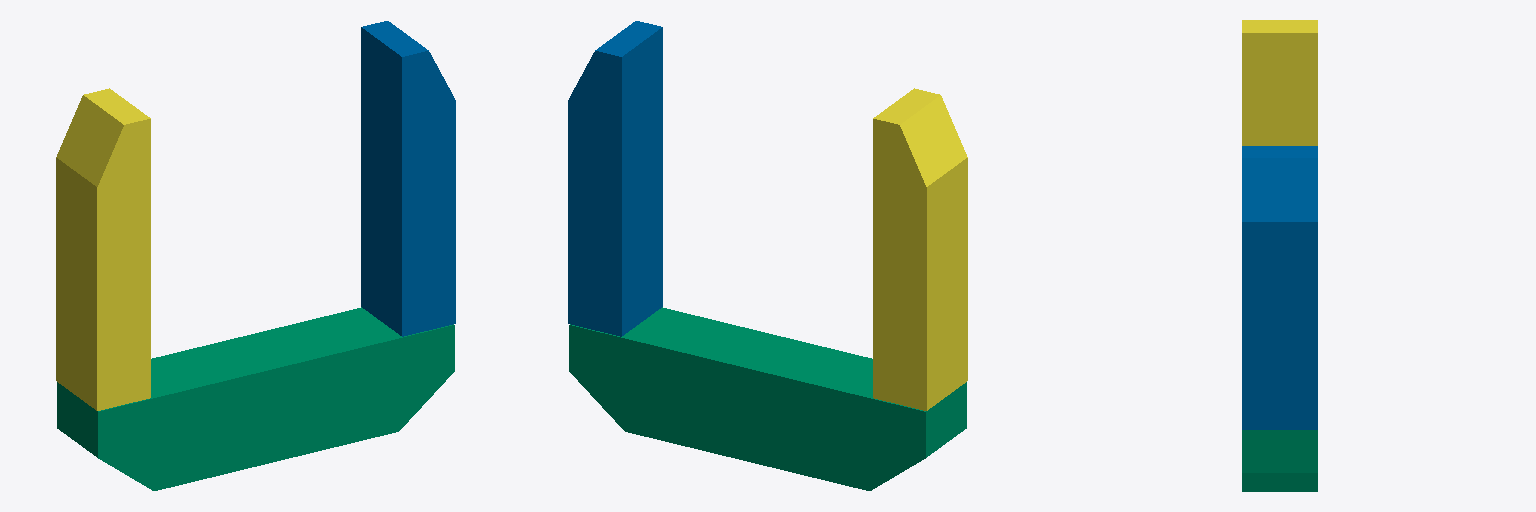
The robot description file, URDF, robot "iiwa14_gripper::iiwa14":
<?xml version="1.0"?>
<!-- =================================================================================== -->
<!-- |    This document was autogenerated by xacro from iiwa14.urdf.xacro              | -->
<!-- |    EDITING THIS FILE BY HAND IS NOT RECOMMENDED                                 | -->
<!-- =================================================================================== -->
<!-- MODIFIED by [author] to modify joint Transmissions to type Effort-->
<robot xmlns:xacro="http://www.ros.org/wiki/xacro" name="iiwa14_gripper::iiwa14">

  <material name="Black">
    <color rgba="0.0 0.0 0.0 1.0"/>
  </material>
  <material name="Blue">
    <color rgba="0.0 0.0 0.8 1.0"/>
  </material>
  <material name="Green">
    <color rgba="0.0 0.8 0.0 1.0"/>
  </material>
  <material name="Grey">
    <color rgba="0.4 0.4 0.4 1.0"/>
  </material>
  <material name="Orange">
    <color rgba="1.0 0.423529411765 0.0392156862745 1.0"/>
  </material>
  <material name="Brown">
    <color rgba="0.870588235294 0.811764705882 0.764705882353 1.0"/>
  </material>
  <material name="Red">
    <color rgba="0.8 0.0 0.0 1.0"/>
  </material>
  <material name="White">
    <color rgba="1.0 1.0 1.0 1.0"/>
  </material>
  <!-- Fix to world just for testing -->
  <link name="world"/>
  <!--joint between {parent} and link_0-->
  <joint name="world_iiwa_joint" type="fixed">
    <origin rpy="0 0 0" xyz="0.18 -0.33 0.79"/>
    <!-- original diploma <origin rpy="0 0 0" xyz="0.18 -0.33 0.79"/> -->
    <!-- <origin rpy="0 3.1415 0" xyz="-0.5 -0.3 1.7"/> -->
    <parent link="world"/>
    <child link="iiwa_link_0"/>
  </joint>
  <link name="iiwa_link_0">
    <inertial>
      <origin rpy="0 0 0" xyz="-0.1 0 0.07"/>
      <mass value="5"/>
      <inertia ixx="0.05" ixy="0" ixz="0" iyy="0.06" iyz="0" izz="0.03"/>
    </inertial>
    <visual>
      <origin rpy="0 0 0" xyz="0 0 0"/>
      <geometry>
        <mesh filename="package://kuka_iiwa_description/meshes/visual/link_0.stl"/>
      </geometry>
      <material name="Grey"/>
    </visual>
    <collision>
      <origin rpy="0 0 0" xyz="0 0 0"/>
      <geometry>
        <mesh filename="package://kuka_iiwa_description/meshes/collision/link_0.stl"/>
      </geometry>
      <material name="Grey"/>
    </collision>
    <self_collision_checking>
      <origin rpy="0 0 0" xyz="0 0 0"/>
      <geometry>
        <capsule length="0.25" radius="0.15"/>
      </geometry>
    </self_collision_checking>
  </link>
  <!-- joint between link_0 and link_1 -->
  <joint name="iiwa_joint_1" type="revolute">
    <parent link="iiwa_link_0"/>
    <child link="iiwa_link_1"/>
    <origin rpy="0 0 0" xyz="0 0 0.1575"/>
    <axis xyz="0 0 1"/>
    <limit effort="3000" lower="-314" upper="314" velocity="100"/>
    <!-- <limit effort="300" lower="-2.96705972839" upper="2.96705972839" velocity="10"/> -->
    <!-- <safety_controller k_position="100" k_velocity="2" soft_lower_limit="-2.93215314335" soft_upper_limit="2.93215314335"/> -->
    <dynamics damping="0.013"/>
  </joint>
  <link name="iiwa_link_1">
    <inertial>
      <origin rpy="0 0 0" xyz="0 -0.03 0.12"/>
      <mass value="4"/>
      <inertia ixx="0.1" ixy="0" ixz="0" iyy="0.09" iyz="0" izz="0.02"/>
    </inertial>
    <visual>
      <origin rpy="0 0 0" xyz="0 0 0"/>
      <geometry>
        <mesh filename="package://kuka_iiwa_description/meshes/visual/link_1.stl"/>
      </geometry>
      <material name="Orange"/>
    </visual>
    <collision>
      <origin rpy="0 0 0" xyz="0 0 0"/>
      <geometry>
        <mesh filename="package://kuka_iiwa_description/meshes/collision/link_1.stl"/>
      </geometry>
      <material name="Orange"/>
    </collision>
  </link>
  <!-- joint between link_1 and link_2 -->
  <joint name="iiwa_joint_2" type="revolute">
    <parent link="iiwa_link_1"/>
    <child link="iiwa_link_2"/>
    <origin rpy="1.57079632679   0 3.14159265359" xyz="0 0 0.2025"/>
    <axis xyz="0 0 1"/>
    <limit effort="3000" lower="-314" upper="314" velocity="100"/>
    <!-- <limit effort="300" lower="-2.09439510239" upper="2.09439510239" velocity="10"/>
    <safety_controller k_position="100" k_velocity="2" soft_lower_limit="-2.05948851735" soft_upper_limit="2.05948851735"/> -->
    <dynamics damping="0.013"/>
  </joint>
  <link name="iiwa_link_2">
    <inertial>
      <origin rpy="0 0 0" xyz="0.0003 0.059 0.042"/>
      <mass value="0.4"/>
      <inertia ixx="0.005" ixy="0" ixz="0" iyy="0.0018" iyz="0" izz="0.0044"/>
    </inertial>
    <visual>
      <origin rpy="0 0 0" xyz="0 0 0"/>
      <geometry>
        <mesh filename="package://kuka_iiwa_description/meshes/visual/link_2.stl"/>
      </geometry>
      <material name="Orange"/>
    </visual>
    <collision>
      <origin rpy="0 0 0" xyz="0 0 0"/>
      <geometry>
        <mesh filename="package://kuka_iiwa_description/meshes/collision/link_2.stl"/>
      </geometry>
      <material name="Orange"/>
    </collision>
  </link>
  <!-- joint between link_2 and link_3 -->
  <joint name="iiwa_joint_3" type="revolute">
    <parent link="iiwa_link_2"/>
    <child link="iiwa_link_3"/>
    <origin rpy="1.57079632679 0 3.14159265359" xyz="0 0.2045 0"/>
    <axis xyz="0 0 1"/>
    <limit effort="3000" lower="-314" upper="314" velocity="100"/>
    <!-- <limit effort="300" lower="-2.96705972839" upper="2.96705972839" velocity="10"/>
    <safety_controller k_position="100" k_velocity="2" soft_lower_limit="-2.93215314335" soft_upper_limit="2.93215314335"/> -->
    <dynamics damping="0.013"/>
  </joint>
  <link name="iiwa_link_3">
    <inertial>
      <origin rpy="0 0 0" xyz="0 0.03 0.13"/>
      <mass value="0.3"/>
      <inertia ixx="0.008" ixy="0" ixz="0" iyy="0.0075" iyz="0" izz="0.001"/>
    </inertial>
    <visual>
      <origin rpy="0 0 0" xyz="0 0 0"/>
      <geometry>
        <mesh filename="package://kuka_iiwa_description/meshes/visual/link_3.stl"/>
      </geometry>
      <material name="Orange"/>
    </visual>
    <collision>
      <origin rpy="0 0 0" xyz="0 0 0"/>
      <geometry>
        <mesh filename="package://kuka_iiwa_description/meshes/collision/link_3.stl"/>
      </geometry>
      <material name="Orange"/>
    </collision>
  </link>
  <!-- joint between link_3 and link_4 -->
  <joint name="iiwa_joint_4" type="revolute">
    <parent link="iiwa_link_3"/>
    <child link="iiwa_link_4"/>
    <origin rpy="1.57079632679 0 0" xyz="0 0 0.2155"/>
    <axis xyz="0 0 1"/>
    <limit effort="3000" lower="-314" upper="314" velocity="100"/>
    <!-- <limit effort="300" lower="-2.09439510239" upper="2.09439510239" velocity="10"/>
    <safety_controller k_position="100" k_velocity="2" soft_lower_limit="-2.05948851735" soft_upper_limit="2.05948851735"/> -->
    <dynamics damping="0.013"/>
  </joint>
  <link name="iiwa_link_4">
    <inertial>
      <origin rpy="0 0 0" xyz="0 0.067 0.034"/>
      <mass value="0.27"/>
      <inertia ixx="0.003" ixy="0" ixz="0" iyy="0.001" iyz="0" izz="0.0029"/>
    </inertial>
    <visual>
      <origin rpy="0 0 0" xyz="0 0 0"/>
      <geometry>
        <mesh filename="package://kuka_iiwa_description/meshes/visual/link_4.stl"/>
      </geometry>
      <material name="Orange"/>
    </visual>
    <collision>
      <origin rpy="0 0 0" xyz="0 0 0"/>
      <geometry>
        <mesh filename="package://kuka_iiwa_description/meshes/collision/link_4.stl"/>
      </geometry>
      <material name="Orange"/>
    </collision>
  </link>
  <!-- joint between link_4 and link_5 -->
  <joint name="iiwa_joint_5" type="revolute">
    <parent link="iiwa_link_4"/>
    <child link="iiwa_link_5"/>
    <origin rpy="-1.57079632679 3.14159265359 0" xyz="0 0.1845 0"/>
    <axis xyz="0 0 1"/>
    <limit effort="3000" lower="-314" upper="314" velocity="100"/>
    <!-- <limit effort="300" lower="-2.96705972839" upper="2.96705972839" velocity="10"/>
    <safety_controller k_position="100" k_velocity="2" soft_lower_limit="-2.93215314335" soft_upper_limit="2.93215314335"/> -->
    <dynamics damping="0.013"/>
  </joint>
  <link name="iiwa_link_5">
    <inertial>
      <origin rpy="0 0 0" xyz="0.0001 0.021 0.076"/>
      <mass value="0.17"/>
      <inertia ixx="0.002" ixy="0" ixz="0" iyy="0.0018" iyz="0" izz="0.0005"/>
    </inertial>
    <visual>
      <origin rpy="0 0 0" xyz="0 0 0"/>
      <geometry>
        <mesh filename="package://kuka_iiwa_description/meshes/visual/link_5.stl"/>
      </geometry>
      <material name="Orange"/>
    </visual>
    <collision>
      <origin rpy="0 0 0" xyz="0 0 0"/>
      <geometry>
        <mesh filename="package://kuka_iiwa_description/meshes/collision/link_5.stl"/>
      </geometry>
      <material name="Orange"/>
    </collision>
  </link>
  <!-- joint between link_5 and link_6 -->
  <joint name="iiwa_joint_6" type="revolute">
    <parent link="iiwa_link_5"/>
    <child link="iiwa_link_6"/>
    <origin rpy="1.57079632679 0 0" xyz="0 0 0.2155"/>
    <axis xyz="0 0 1"/>
    <limit effort="3000" lower="-314" upper="314" velocity="100"/>
    <!-- <limit effort="300" lower="-2.09439510239" upper="2.09439510239" velocity="10"/>
    <safety_controller k_position="100" k_velocity="2" soft_lower_limit="-2.05948851735" soft_upper_limit="2.05948851735"/> -->
    <dynamics damping="0.013"/>
  </joint>
  <link name="iiwa_link_6">
    <inertial>
      <origin rpy="0 0 0" xyz="0 0.0006 0.0004"/>
      <mass value="0.18"/>
      <inertia ixx="0.0005" ixy="0" ixz="0" iyy="0.00036" iyz="0" izz="0.00047"/>
    </inertial>
    <visual>
      <origin rpy="0 0 0" xyz="0 0 0"/>
      <geometry>
        <mesh filename="package://kuka_iiwa_description/meshes/visual/link_6.stl"/>
      </geometry>
      <material name="Orange"/>
    </visual>
    <collision>
      <origin rpy="0 0 0" xyz="0 0 0"/>
      <geometry>
        <mesh filename="package://kuka_iiwa_description/meshes/collision/link_6.stl"/>
      </geometry>
      <material name="Orange"/>
    </collision>
  </link>
  <!-- joint between link_6 and link_7 -->
  <joint name="iiwa_joint_7" type="revolute">
    <parent link="iiwa_link_6"/>
    <child link="iiwa_link_7"/>
    <origin rpy="-1.57079632679 3.14159265359 0" xyz="0 0.081 0"/>
    <axis xyz="0 0 1"/>
    <limit effort="3000" lower="-314" upper="314" velocity="100"/>
    <!-- <limit effort="300" lower="-3.05432619099" upper="3.05432619099" velocity="10"/>
    <safety_controller k_position="100" k_velocity="2" soft_lower_limit="-3.01941960595" soft_upper_limit="3.01941960595"/> -->
    <dynamics damping="0.013"/>
  </joint>
  <link name="iiwa_link_7">
    <inertial>
      <origin rpy="0 0 0" xyz="0 0 0.02"/>
      <mass value="0.03"/>
      <inertia ixx="0.0001" ixy="0" ixz="0" iyy="0.0001" iyz="0" izz="0.0001"/>
    </inertial>
    <visual>
      <origin rpy="0 0 0" xyz="0 0 0"/>
      <geometry>
        <mesh filename="package://kuka_iiwa_description/meshes/visual/link_7.stl"/>
      </geometry>
      <material name="Grey"/>
    </visual>
    <collision>
      <origin rpy="0 0 0" xyz="0 0 0"/>
      <geometry>
        <mesh filename="package://kuka_iiwa_description/meshes/collision/link_7.stl"/>
      </geometry>
      <material name="Grey"/>
    </collision>
  </link>
  <joint name="iiwa_joint_ee" type="fixed">
    <parent link="iiwa_link_7"/>
    <child link="iiwa_link_ee"/>
    <origin rpy="0 0 0" xyz="0 0 0.045"/>
  </joint>
  <link name="iiwa_link_ee">     </link>

   <!-- Enable the Joint Feedback -->
  <gazebo reference="iiwa_joint_7">
    <provideFeedback>true</provideFeedback>
  </gazebo>
  <!-- The ft_sensor plugin -->
  <gazebo>
    <plugin filename="libgazebo_ros_ft_sensor.so" name="ft_sensor">
      <updateRate>200.0</updateRate>
      <topicName>/iiwa/ft_sensor/cartesian_wrench</topicName>
      <noise>
        <type>gaussian</type>
        <mean>0.0</mean>
        <stddev>0.0</stddev>
        <!-- change this to simulate noise -->
      </noise>
      <jointName>iiwa_joint_7</jointName>
      <!-- <jointName>base_link_joint</jointName> -->
    </plugin>
    <plugin name="gazebo_grasp_fix" filename="libgazebo_grasp_fix.so">
      <arm>
        <arm_name>iiwa</arm_name>
        <palm_link>iiwa_link_7</palm_link>
        <gripper_link>gripper_right_link</gripper_link>
        <gripper_link>gripper_left_link</gripper_link>
      </arm>
      <forces_angle_tolerance>100</forces_angle_tolerance>
      <update_rate>4</update_rate>
      <grip_count_threshold>4</grip_count_threshold>
      <max_grip_count>8</max_grip_count>
      <release_tolerance>0.005</release_tolerance>
      <disable_collisions_on_attach>false</disable_collisions_on_attach>
      <contact_topic>__default_topic__</contact_topic>
    </plugin>
  </gazebo>
  <!-- Load Gazebo lib and set the robot namespace -->
  <gazebo>
    <plugin filename="libgazebo_ros_control.so" name="gazebo_ros_control">
      <robotNamespace>/iiwa</robotNamespace>
    </plugin>
  </gazebo>
  <!-- Link0 -->
  <gazebo reference="iiwa_link_0">
    <material>Gazebo/Grey</material>
    <mu1>0.2</mu1>
    <mu2>0.2</mu2>
  </gazebo>
  <!-- Link1 -->
  <gazebo reference="iiwa_link_1">
    <material>Gazebo/Orange</material>
    <mu1>0.2</mu1>
    <mu2>0.2</mu2>
  </gazebo>
  <!-- Link2 -->
  <gazebo reference="iiwa_link_2">
    <material>Gazebo/Orange</material>
    <mu1>0.2</mu1>
    <mu2>0.2</mu2>
  </gazebo>
  <!-- Link3 -->
  <gazebo reference="iiwa_link_3">
    <material>Gazebo/Orange</material>
    <mu1>0.2</mu1>
    <mu2>0.2</mu2>
  </gazebo>
  <!-- Link4 -->
  <gazebo reference="iiwa_link_4">
    <material>Gazebo/Orange</material>
    <mu1>0.2</mu1>
    <mu2>0.2</mu2>
  </gazebo>
  <!-- Link5 -->
  <gazebo reference="iiwa_link_5">
    <material>Gazebo/Orange</material>
    <mu1>0.2</mu1>
    <mu2>0.2</mu2>
  </gazebo>
  <!-- Link6 -->
  <gazebo reference="iiwa_link_6">
    <material>Gazebo/Orange</material>
    <mu1>0.2</mu1>
    <mu2>0.2</mu2>
  </gazebo>
  <!-- Link7 -->
  <gazebo reference="iiwa_link_7">
    <material>Gazebo/Grey</material>
    <mu1>0.2</mu1>
    <mu2>0.2</mu2>
  </gazebo>
  <transmission name="iiwa_tran_1">
    <robotNamespace>/iiwa</robotNamespace>
    <type>transmission_interface/SimpleTransmission</type>
    <joint name="iiwa_joint_1">
      <hardwareInterface>hardware_interface/EffortJointInterface</hardwareInterface>
      <!--<hardwareInterface>hardware_interface/EffortJointInterface</hardwareInterface>-->
    </joint>
    <actuator name="iiwa_motor_1">
      <hardwareInterface>hardware_interface/EffortJointInterface</hardwareInterface>
      <!--<hardwareInterface>hardware_interface/EffortJointInterface</hardwareInterface>-->
      <mechanicalReduction>1</mechanicalReduction>
    </actuator>
  </transmission>
  <transmission name="iiwa_tran_2">
    <robotNamespace>/iiwa</robotNamespace>
    <type>transmission_interface/SimpleTransmission</type>
    <joint name="iiwa_joint_2">
      <hardwareInterface>hardware_interface/EffortJointInterface</hardwareInterface>
      <!--<hardwareInterface>hardware_interface/EffortJointInterface</hardwareInterface>-->
    </joint>
    <actuator name="iiwa_motor_2">
      <hardwareInterface>hardware_interface/EffortJointInterface</hardwareInterface>
      <!--<hardwareInterface>hardware_interface/EffortJointInterface</hardwareInterface>-->
      <mechanicalReduction>1</mechanicalReduction>
    </actuator>
  </transmission>
  <transmission name="iiwa_tran_3">
    <robotNamespace>/iiwa</robotNamespace>
    <type>transmission_interface/SimpleTransmission</type>
    <joint name="iiwa_joint_3">
      <hardwareInterface>hardware_interface/EffortJointInterface</hardwareInterface>
      <!--<hardwareInterface>hardware_interface/EffortJointInterface</hardwareInterface>-->
    </joint>
    <actuator name="iiwa_motor_3">
      <hardwareInterface>hardware_interface/EffortJointInterface</hardwareInterface>
      <!--<hardwareInterface>hardware_interface/EffortJointInterface</hardwareInterface>-->
      <mechanicalReduction>1</mechanicalReduction>
    </actuator>
  </transmission>
  <transmission name="iiwa_tran_4">
    <robotNamespace>/iiwa</robotNamespace>
    <type>transmission_interface/SimpleTransmission</type>
    <joint name="iiwa_joint_4">
      <hardwareInterface>hardware_interface/EffortJointInterface</hardwareInterface>
      <!--<hardwareInterface>hardware_interface/EffortJointInterface</hardwareInterface>-->
    </joint>
    <actuator name="iiwa_motor_4">
      <hardwareInterface>hardware_interface/EffortJointInterface</hardwareInterface>
      <!--<hardwareInterface>hardware_interface/EffortJointInterface</hardwareInterface>-->
      <mechanicalReduction>1</mechanicalReduction>
    </actuator>
  </transmission>
  <transmission name="iiwa_tran_5">
    <robotNamespace>/iiwa</robotNamespace>
    <type>transmission_interface/SimpleTransmission</type>
    <joint name="iiwa_joint_5">
      <hardwareInterface>hardware_interface/EffortJointInterface</hardwareInterface>
      <!--<hardwareInterface>hardware_interface/EffortJointInterface</hardwareInterface>-->
    </joint>
    <actuator name="iiwa_motor_5">
      <hardwareInterface>hardware_interface/EffortJointInterface</hardwareInterface>
      <!--<hardwareInterface>hardware_interface/EffortJointInterface</hardwareInterface>-->
      <mechanicalReduction>1</mechanicalReduction>
    </actuator>
  </transmission>
  <transmission name="iiwa_tran_6">
    <robotNamespace>/iiwa</robotNamespace>
    <type>transmission_interface/SimpleTransmission</type>
    <joint name="iiwa_joint_6">
      <hardwareInterface>hardware_interface/EffortJointInterface</hardwareInterface>
      <!--<hardwareInterface>hardware_interface/EffortJointInterface</hardwareInterface>-->
    </joint>
    <actuator name="iiwa_motor_6">
      <hardwareInterface>hardware_interface/EffortJointInterface</hardwareInterface>
      <!--<hardwareInterface>hardware_interface/EffortJointInterface</hardwareInterface>-->
      <mechanicalReduction>1</mechanicalReduction>
    </actuator>
  </transmission>
  <transmission name="iiwa_tran_7">
    <robotNamespace>/iiwa</robotNamespace>
    <type>transmission_interface/SimpleTransmission</type>
    <joint name="iiwa_joint_7">
      <hardwareInterface>hardware_interface/EffortJointInterface</hardwareInterface>
      <!--<hardwareInterface>hardware_interface/EffortJointInterface</hardwareInterface>-->
    </joint>
    <actuator name="iiwa_motor_7">
      <hardwareInterface>hardware_interface/EffortJointInterface</hardwareInterface>
      <!--<hardwareInterface>hardware_interface/EffortJointInterface</hardwareInterface>-->
      <mechanicalReduction>1</mechanicalReduction>
    </actuator>
  </transmission>
  <joint name="base_link_joint" type="fixed">
    <origin rpy="1.5707963705062866 -0 -0" xyz="0 0 0"/>
    <parent link="iiwa_link_7"/>
    <child link="base_link_link"/>
    <axis xyz="0 0 1"/>
    <calibration falling="0.0" reference_position="0.0" rising="0.0"/>
    <dynamics damping="0.1"/>
    <!-- <limit effort="100.0" lower="1.0" upper="1.0" velocity="1.0"/> -->
  </joint>
  <joint name="gripper_left_joint" type="prismatic">
    <origin rpy="1.5707963705062866 1.570796251296997 0" xyz="-0.0850000023841858 0.050000011920928955 0"/>
    <parent link="base_link_link"/>
    <child link="gripper_left_link"/>
    <axis xyz="0 1 0"/>
    <calibration falling="0.0" reference_position="0.0" rising="0.0"/>
    <dynamics damping="0.117"/>
    <limit effort="100.0" lower="0.0" upper="0.0704" velocity="1.0"/>
  </joint>
  <joint name="gripper_right_joint" type="prismatic">
    <origin rpy="1.5707963705062866 -1.570796251296997 0" xyz="0.0850000023841858 0.050000011920928955 0"/>
    <parent link="base_link_link"/>
    <child link="gripper_right_link"/>
    <axis xyz="0 1 0"/>
    <calibration falling="0.0" reference_position="0.0" rising="0.0"/>
    <dynamics damping="0.117"/>
    <limit effort="100.0" lower="0.0" upper="0.0704" velocity="1.0"/>
  </joint>
  <link name="base_link_link">
    <inertial>
      <origin rpy="0 0 0" xyz="0 0 0"/>
      <mass value="0.5"/>
      <inertia ixx="0.00017" ixy="0.0" ixz="0.0" iyy="0.0018" iyz="0.0" izz="0.0017"/>
    </inertial>
    <visual>
      <origin rpy="-1.5707963705062866 -0 0" xyz="0 0.02500000037252903 -1.0927847515773692e-09"/>
      <geometry>
        <mesh filename="package://kuka_iiwa_description/meshes/visual/VIS_base.dae" scale="1 1 1"/>
      </geometry>
    </visual>
    <collision>
      <origin rpy="-1.5707963705062866 -0 0" xyz="0 0.02500000037252903 -1.0927847515773692e-09"/>
      <geometry>
        <mesh filename="package://kuka_iiwa_description/meshes/collision/COL_base.dae" scale="1 1 1"/>
      </geometry>
    </collision>
  </link>
  <link name="gripper_left_link">
    <inertial>
      <origin rpy="0 0 0" xyz="0 0 0"/>
      <mass value="0.1"/>
      <inertia ixx="0.0002" ixy="0.0" ixz="0.0" iyy="0.000195" iyz="0.0" izz="0.000021"/>
    </inertial>
    <visual>
      <origin rpy="3.141592502593994 5.960465188081798e-08 1.5707963705062866" xyz="9.529081523851346e-09 -1.4710425944031158e-07 -0.0719999828338623"/>
      <geometry>
        <mesh filename="package://kuka_iiwa_description/meshes/visual/VIS_gripper_left.dae" scale="1 1 1"/>
      </geometry>
    </visual>
    <collision>
      <origin rpy="3.141592502593994 5.960465188081798e-08 1.5707963705062866" xyz="9.529081523851346e-09 -1.4710425944031158e-07 -0.0719999828338623"/>
      <geometry>
        <mesh filename="package://kuka_iiwa_description/meshes/collision/COL_gripper_left.dae" scale="1 1 1"/>
      </geometry>
    </collision>
  </link>
  <link name="gripper_right_link">
    <inertial>
      <origin rpy="0 0 0" xyz="0 0 0"/>
      <mass value="0.1"/>
      <inertia ixx="0.0002" ixy="0.0" ixz="0.0" iyy="0.000195" iyz="0.0" izz="0.000021"/>
    </inertial>
    <visual>
      <origin rpy="3.141592502593994 -5.960465188081798e-08 -1.5707963705062866" xyz="-9.529081523851346e-09 -1.4710425944031158e-07 -0.0719999828338623"/>
      <geometry>
        <mesh filename="package://kuka_iiwa_description/meshes/visual/VIS_gripper_right.dae" scale="1 1 1"/>
      </geometry>
    </visual>
    <collision>
      <origin rpy="3.141592502593994 -5.960465188081798e-08 -1.5707963705062866" xyz="-9.529081523851346e-09 -1.4710425944031158e-07 -0.0719999828338623"/>
      <geometry>
        <mesh filename="package://kuka_iiwa_description/meshes/collision/COL_gripper_right.dae" scale="1 1 1"/>
      </geometry>
    </collision>
  </link>
  <transmission name="gripper_tran_left">
    <robotNamespace>/iiwa</robotNamespace>
    <type>transmission_interface/SimpleTransmission</type>
    <joint name="gripper_left_joint">
      <hardwareInterface>hardware_interface/EffortJointInterface</hardwareInterface>
      <!--<hardwareInterface>hardware_interface/EffortJointInterface</hardwareInterface>-->
    </joint>
    <actuator name="gripper_motor_left">
      <hardwareInterface>hardware_interface/EffortJointInterface</hardwareInterface>
      <!--<hardwareInterface>hardware_interface/EffortJointInterface</hardwareInterface>-->
      <mechanicalReduction>1</mechanicalReduction>
    </actuator>
  </transmission>
  <transmission name="gripper_tran_right">
    <robotNamespace>/iiwa</robotNamespace>
    <type>transmission_interface/SimpleTransmission</type>
    <joint name="gripper_right_joint">
      <hardwareInterface>hardware_interface/EffortJointInterface</hardwareInterface>
      <!--<hardwareInterface>hardware_interface/EffortJointInterface</hardwareInterface>-->
    </joint>
    <actuator name="iiwa_motor_right">
      <hardwareInterface>hardware_interface/EffortJointInterface</hardwareInterface>
      <!--<hardwareInterface>hardware_interface/EffortJointInterface</hardwareInterface>-->
      <mechanicalReduction>1</mechanicalReduction>
    </actuator>
  </transmission>
</robot>

--- What the picture shows (computed from the rendered views, not written in the file) ---
Views: 3 orthographic renders of the robot side by side, from view 1: azimuth 30°, elevation 25°; view 2: azimuth 150°, elevation 25°; view 3: azimuth 270°, elevation 25°.
Robot: iiwa14_gripper::iiwa14 — 13 links, 12 joints (7 revolute, 2 prismatic, 3 fixed); root link world; default pose: every joint at zero.
Visible links, largest first — view 1: base_link_link, gripper_left_link, gripper_right_link; view 2: base_link_link, gripper_left_link, gripper_right_link; view 3: gripper_right_link, gripper_left_link, base_link_link.
Link boxes in pixels (<box>): base_link_link: <box>57,307,454,490</box>; gripper_left_link: <box>56,88,150,410</box>; gripper_right_link: <box>361,21,455,336</box>; base_link_link: <box>569,307,966,490</box>; gripper_left_link: <box>873,88,967,410</box>; gripper_right_link: <box>568,21,662,336</box>; gripper_right_link: <box>1242,146,1317,429</box>; gripper_left_link: <box>1242,20,1317,145</box>; base_link_link: <box>1242,430,1317,491</box>.
Bounding box of the posed robot: 0.2011 × 0.04 × 0.2004 m (x, y, z).
Meshes: 11 distinct files referenced, 3 mesh visuals loaded (3 Collada DAE); not drawn: 8 (reference not matched to a file when rendering).